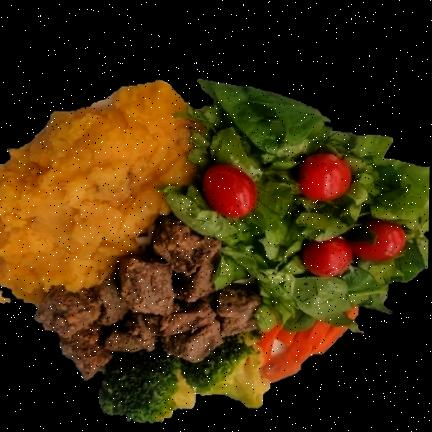broccoli: (99, 332, 270, 421)
carrot: (263, 321, 347, 381)
cassava: (0, 81, 196, 302)
meat: (35, 214, 261, 379)
salad: (162, 79, 429, 331)
tomato: (302, 218, 404, 276)
